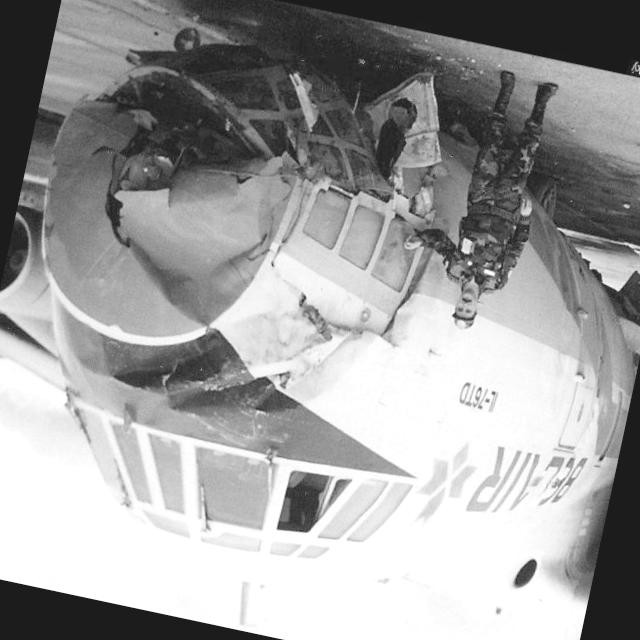dent: (115, 344, 292, 428)
